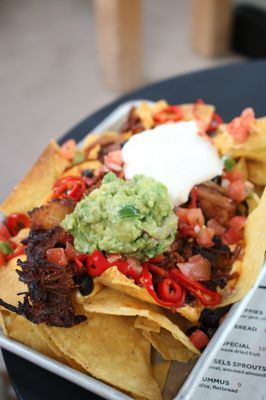curry: (62, 172, 178, 259)
pizza: (89, 0, 150, 95)
